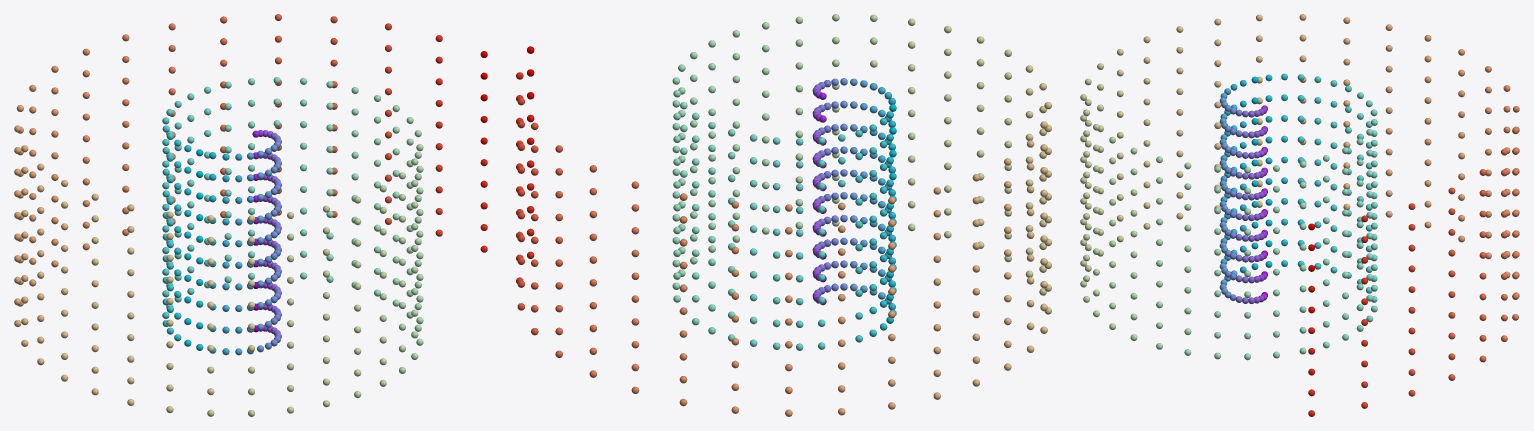
File: helix_points.glb
3 views of the same model, side by side, from view 1: azimuth 30°, elevation 25°; view 2: azimuth 150°, elevation 25°; view 3: azimuth 270°, elevation 25° (orthographic). The views are drawn at different scales.
Parts seen in each view (by area): view 1: world; view 2: world; view 3: world.
Boxes of the visible parts, box(x1,y1,x2,y2) form: world: box(14, 14, 487, 416); world: box(516, 14, 1051, 416); world: box(1080, 14, 1519, 416).
Bounding box in the file's own units: 21.98 × 9.3 × 19.21.
